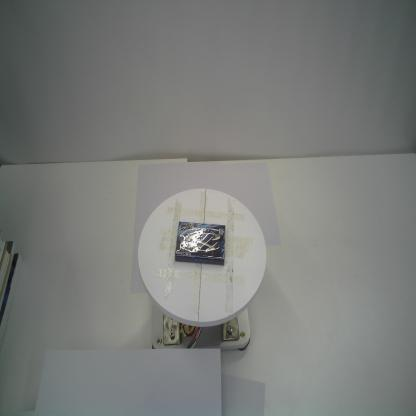Gum: (174, 220, 228, 267)
